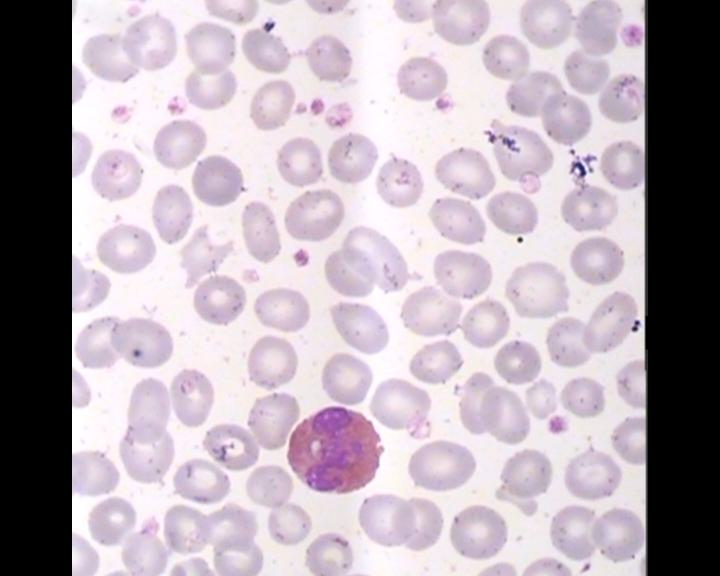eosi: (286, 401, 386, 495)
